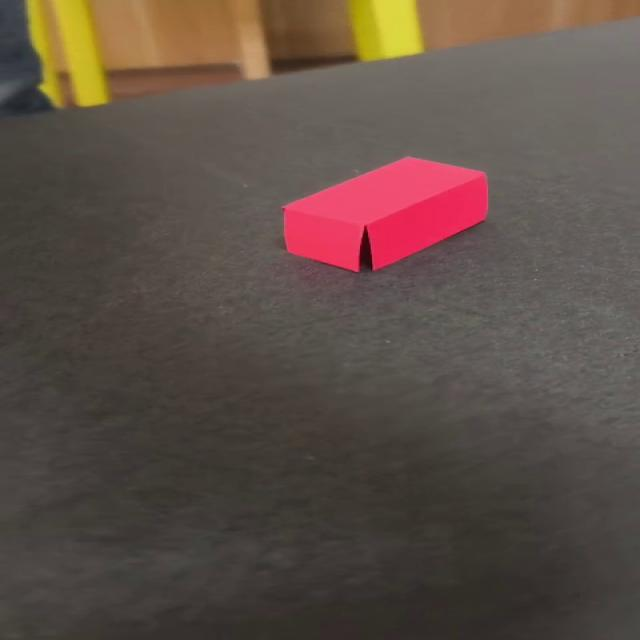red block: (280, 154, 489, 272)
